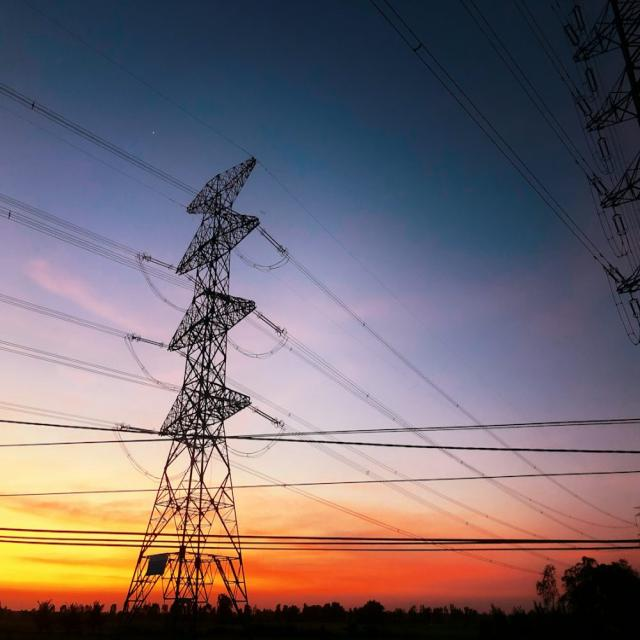transmission tower: (127, 143, 310, 608)
